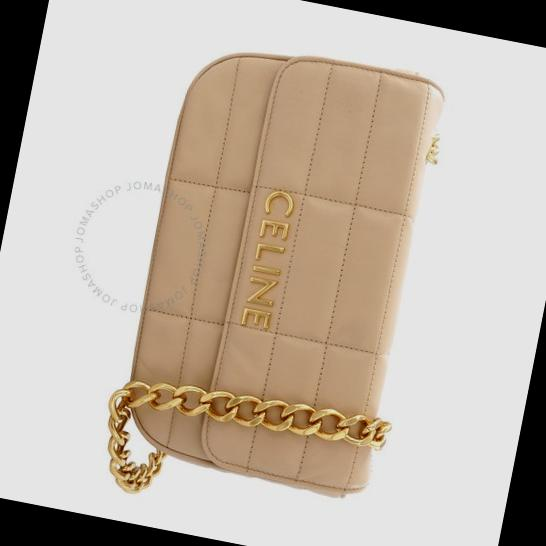CELINE: (240, 187, 296, 331)
